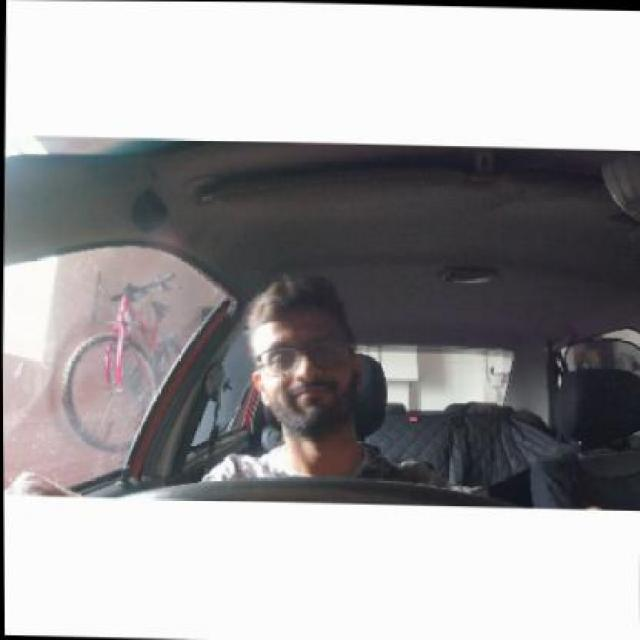person: (239, 282, 370, 444)
